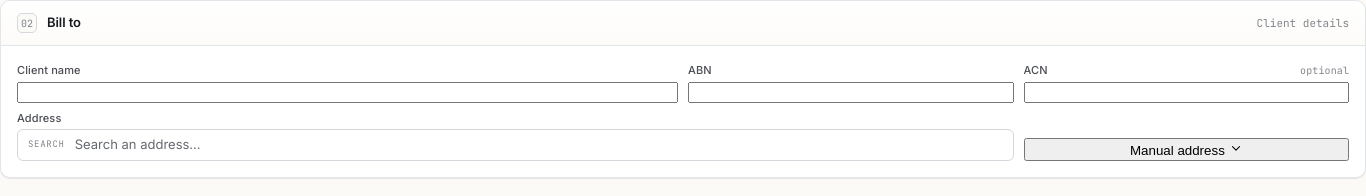
Test: ClientDetailsForm › sends only the field that changed and shows the name in the header
Expected: the text "Client details" is shown, [1257,15,1349,31]
Type "Client Corp" into the field labelled "Client name" at point(348, 92), box [17,82,678,102]
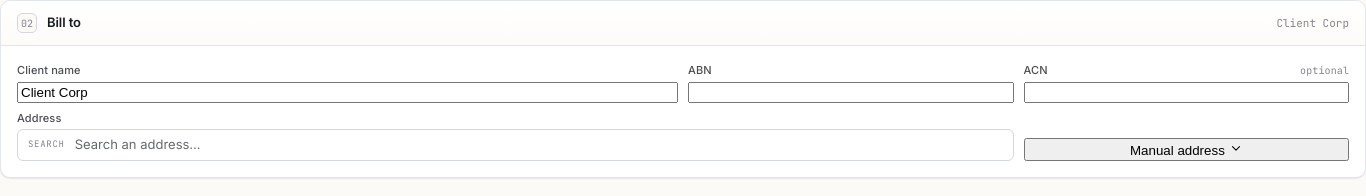
Result: the text "Client Corp" is shown at [1276,15,1349,31]
